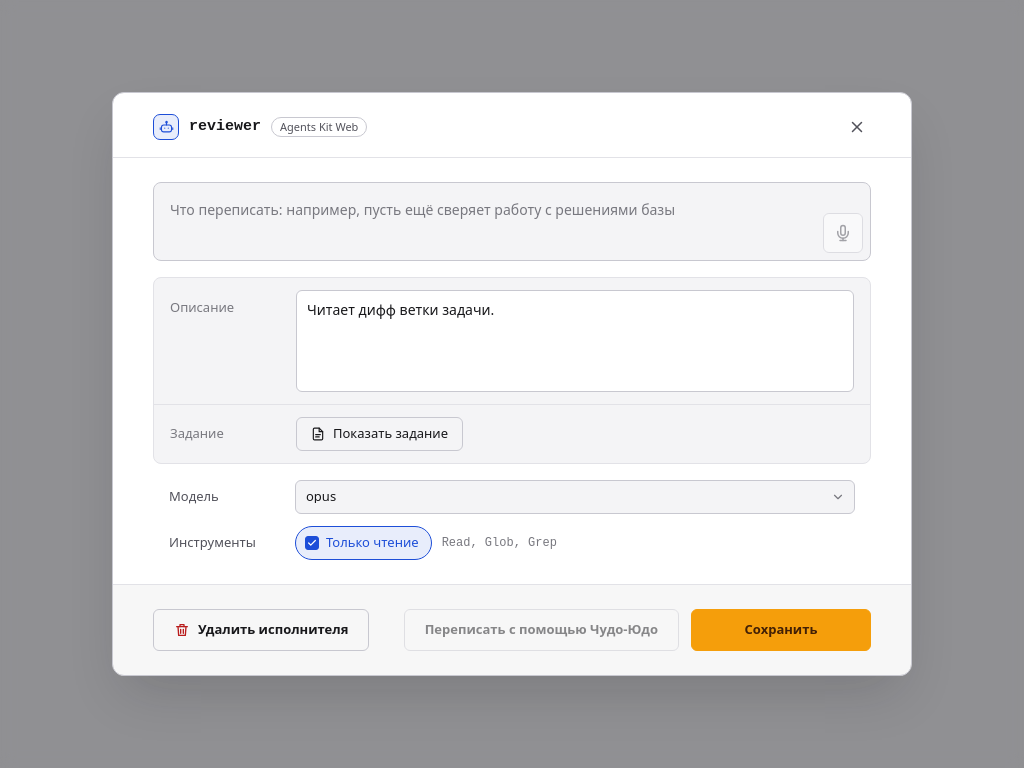
it: разметка задания показана оформленной
Click the button "Показать задание" at {"x": 380, "y": 434}, box x1=296 y1=417 x2=463 y2=451
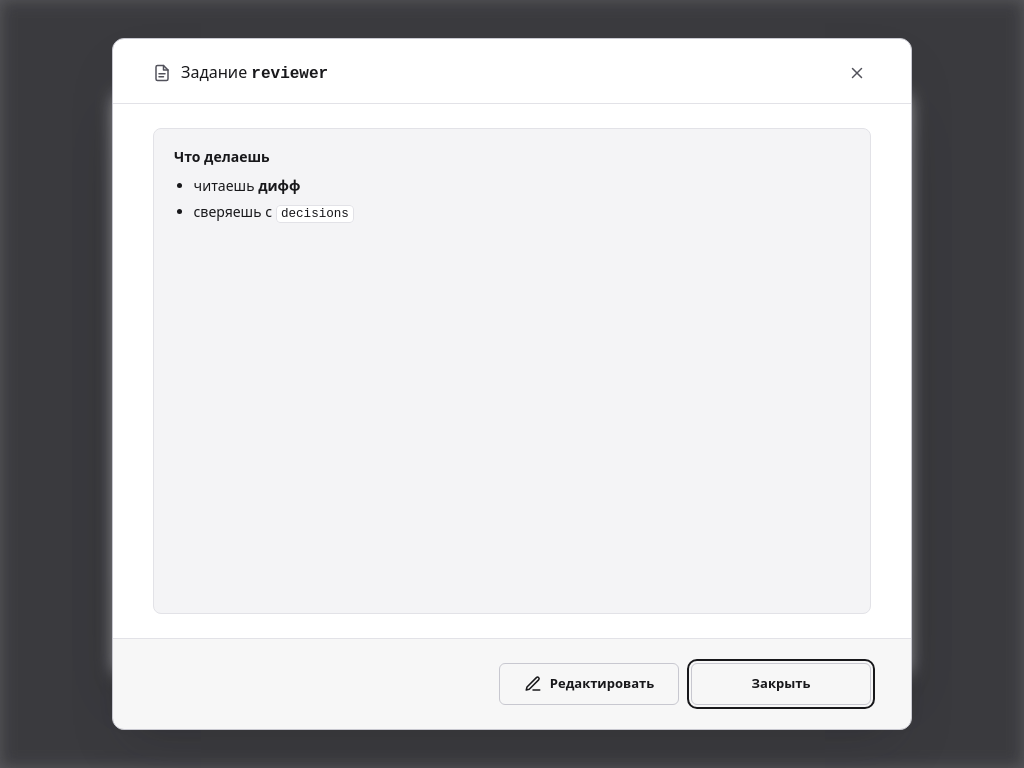
expect the heading "Что делаешь" is shown: met, box x1=174 y1=147 x2=270 y2=166
expect the number of list items is 2: met, box x1=194 y1=176 x2=300 y2=195; x1=194 y1=202 x2=354 y2=223
